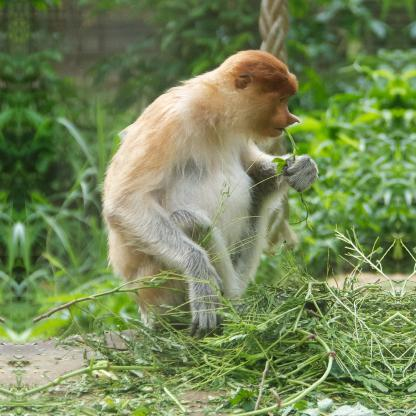Monkey: (100, 50, 316, 336)
